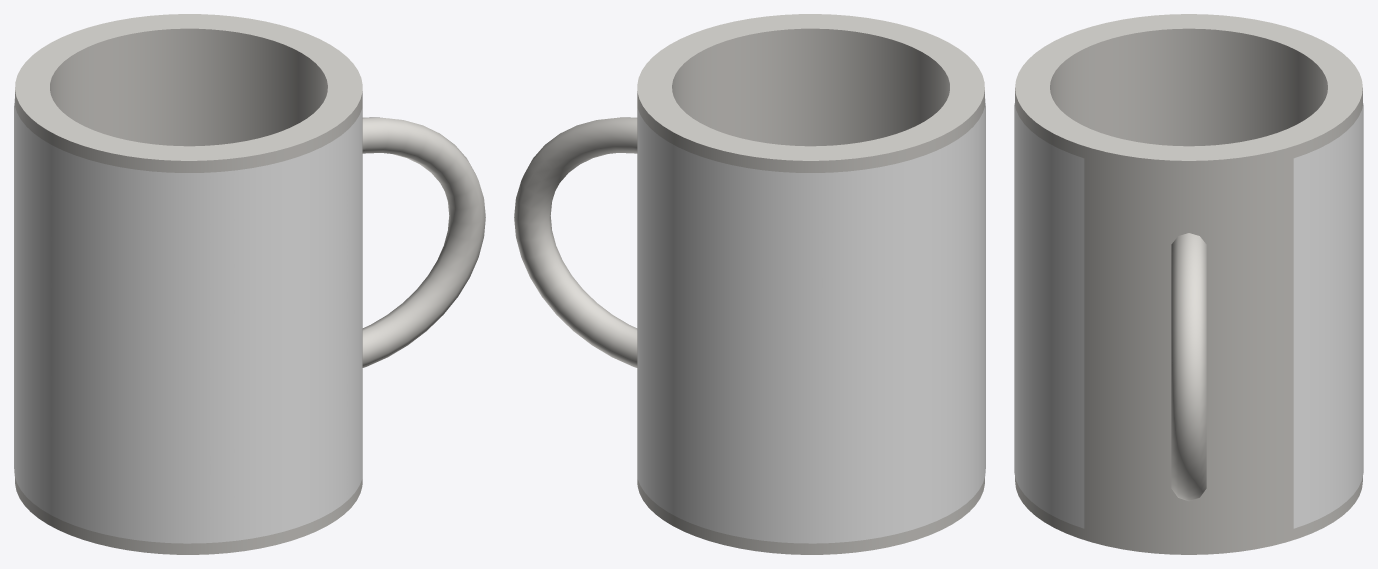
File: mug.glb
The picture shows the model from 3 angles, left to right: view 1: azimuth 30°, elevation 25°; view 2: azimuth 150°, elevation 25°; view 3: azimuth 270°, elevation 25°; orthographic projection.
Size of the model in its own units: 11.84 by 10 by 8.03.
Materials: 2 (1 with a texture image).
